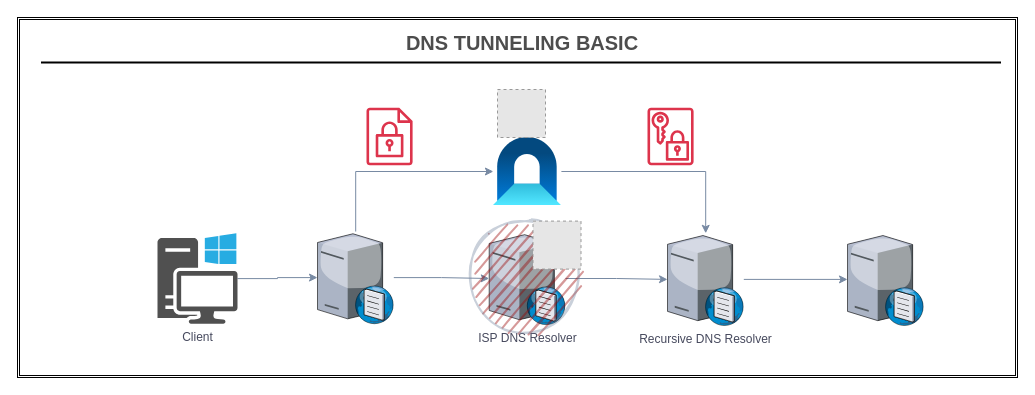
Image size: 1035x395. Some labels were removed from this diagram. Grey dashed boxes stand in for pictures. Here are the shapes that lost their labels. From the top down, the centre of each, then its label:
pixel 355 277: Local DNS Resolver
pixel 885 279: Root DNS Resolver
